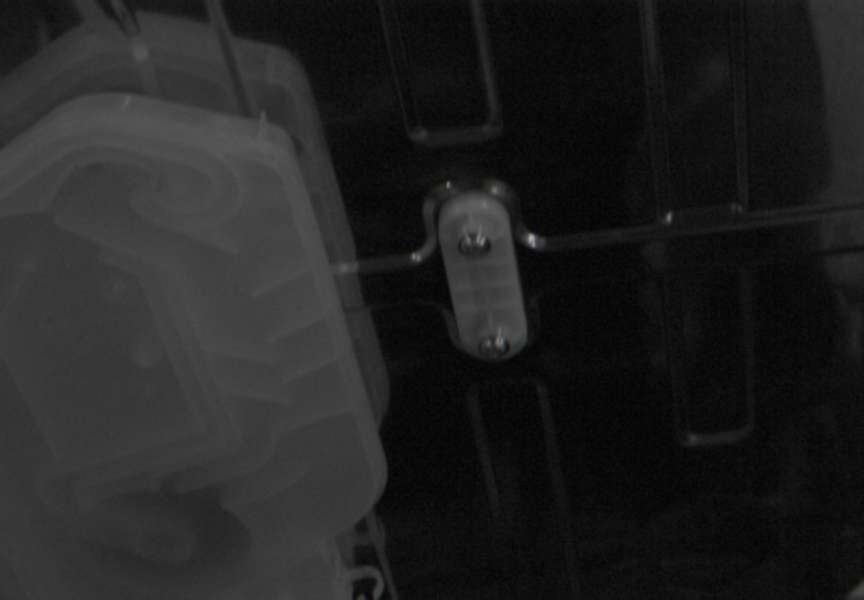screw: (478, 332, 510, 360), (458, 231, 491, 257)
